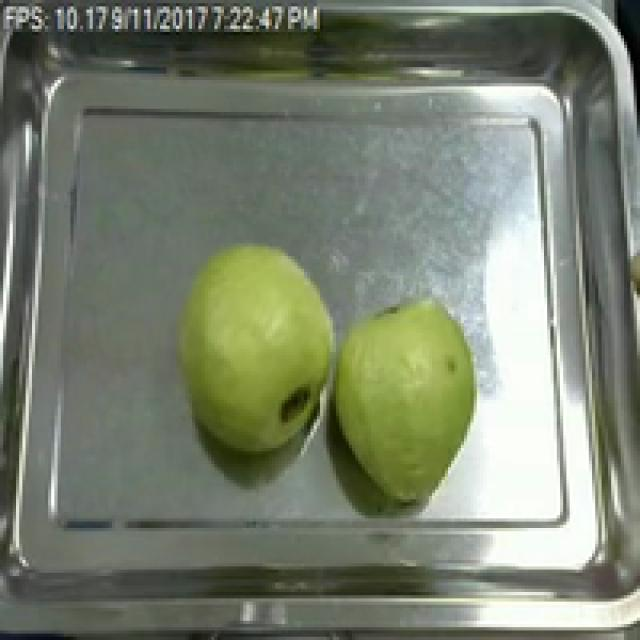Fruit: (166, 234, 349, 464), (320, 294, 490, 509)
